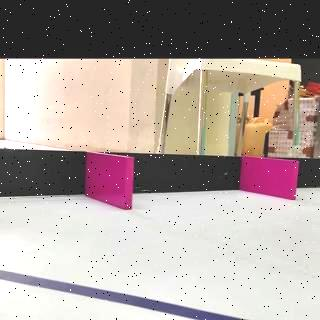xparking: (90, 156, 132, 208), (245, 160, 298, 198)
